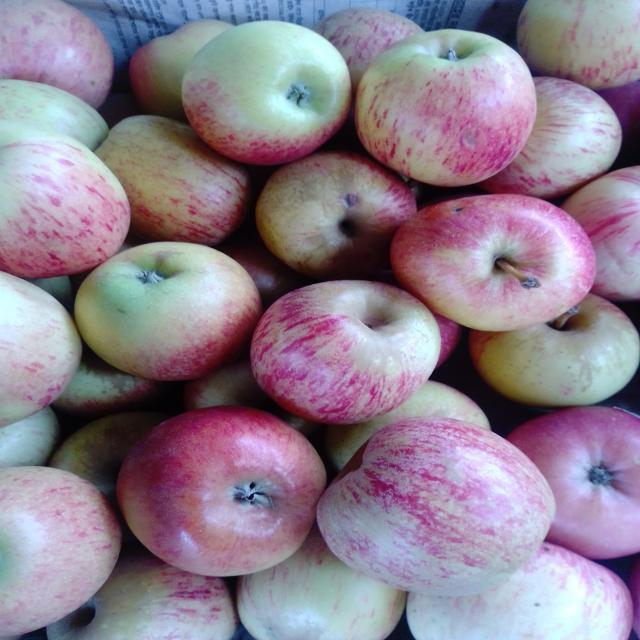Fresh Apple: (337, 430, 543, 608), (125, 410, 338, 580), (362, 42, 543, 192), (187, 20, 365, 165), (415, 195, 595, 335), (268, 277, 437, 423), (92, 235, 250, 377)
